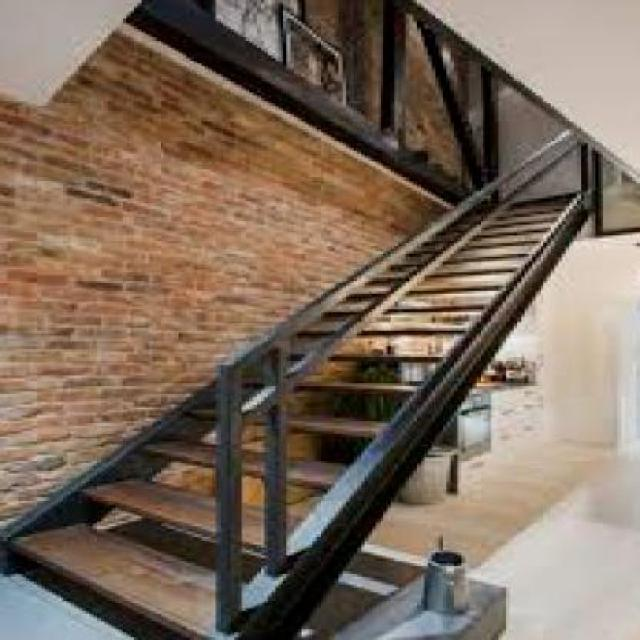stair: (0, 65, 592, 637)
